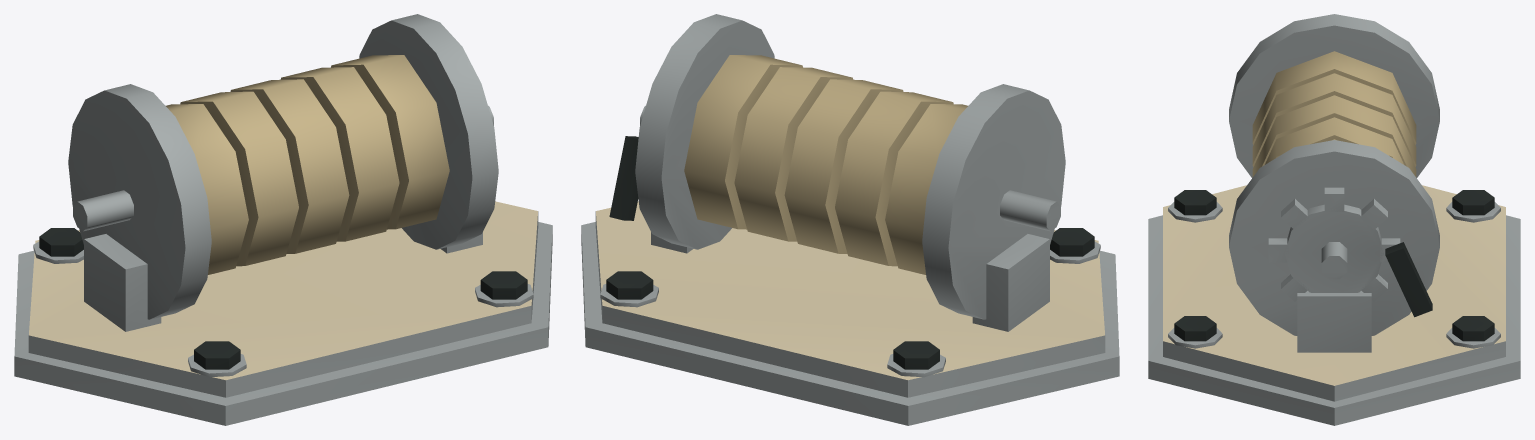
Rendered from panel_drum.glb.
3 renders of one model, left to right at view 1: azimuth 30°, elevation 25°; view 2: azimuth 150°, elevation 25°; view 3: azimuth 270°, elevation 25°, orthographic. The views are drawn at different scales.
Visible parts, largest first — view 1: panel_drum; view 2: panel_drum; view 3: panel_drum.
Boxes of the visible parts, left/top/right/bottom form: panel_drum: left=14, top=14, right=552, bottom=425; panel_drum: left=581, top=14, right=1119, bottom=425; panel_drum: left=1148, top=14, right=1520, bottom=425.
Size of the model in its own units: 0.45 by 0.2 by 0.3.
